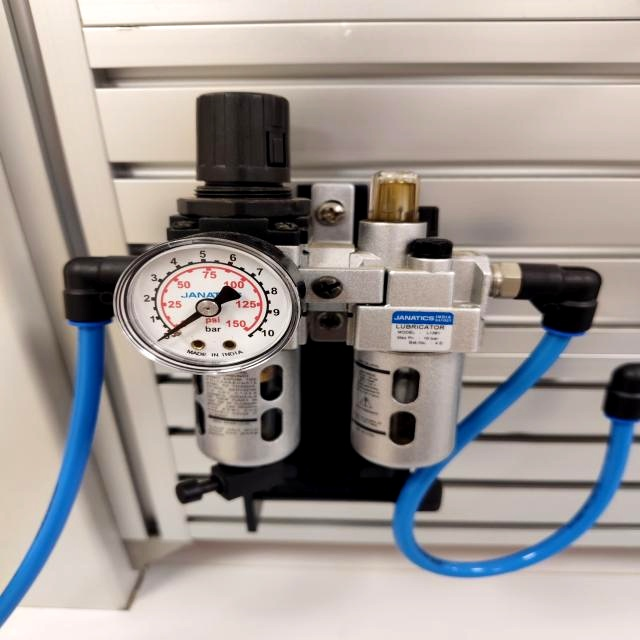FRL unit: (52, 82, 608, 518)
push button: (112, 231, 302, 375)
